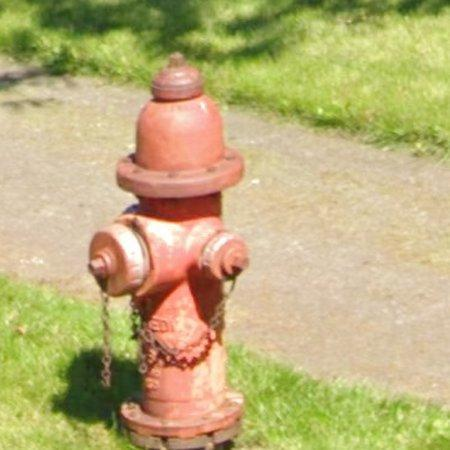a fire hydrant: (88, 53, 249, 450)
